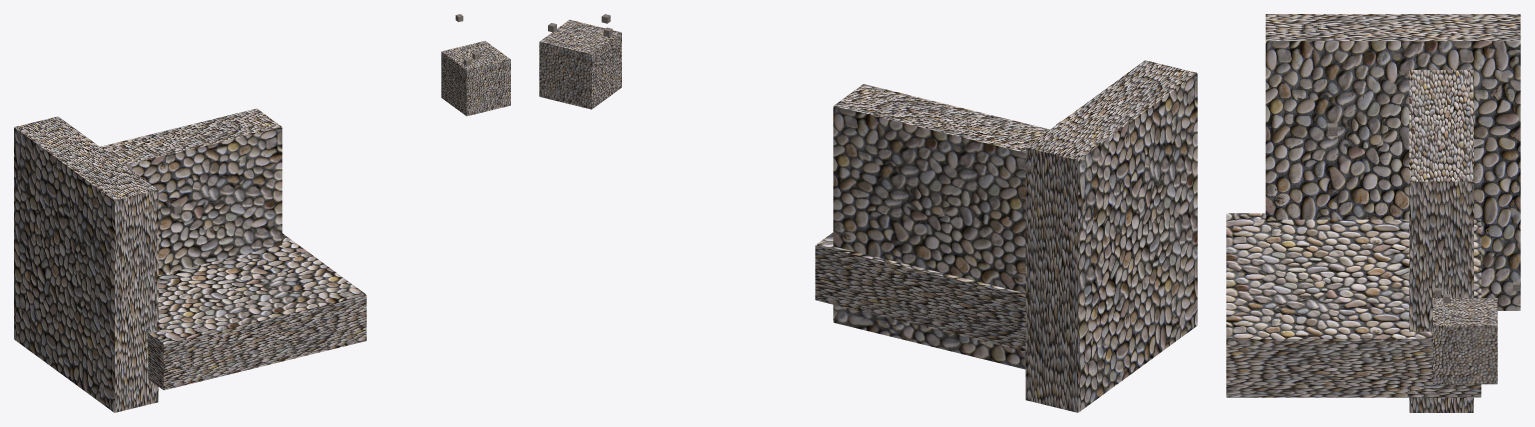
Rendered from lightTest.glb.
3 views of the same model, side by side, from view 1: azimuth 30°, elevation 25°; view 2: azimuth 150°, elevation 25°; view 3: azimuth 270°, elevation 25° (orthographic). The views are drawn at different scales.
Visible parts, largest first — view 1: Cube.002, Cube.006, Cube.007, Cube; view 2: Cube.002, Cube.007, Cube.006, Cube; view 3: Cube.002, Cube.006, Cube.007, Cube.
Boxes of the visible parts, x1,y1,x2,y2 form: Cube.002: (14, 116, 158, 412); Cube.006: (148, 233, 366, 390); Cube.007: (100, 108, 282, 274); Cube: (441, 41, 510, 116); Cube.002: (1025, 60, 1197, 412); Cube.007: (833, 84, 1049, 369); Cube.006: (815, 232, 1025, 351); Cube: (539, 19, 621, 109); Cube.002: (1265, 14, 1520, 310); Cube.006: (1226, 213, 1481, 397); Cube.007: (1409, 70, 1473, 412); Cube: (1433, 298, 1497, 384).
Bounding box in the file's own units: 113 × 50.71 × 49.14.
8 materials, 8 textured.
